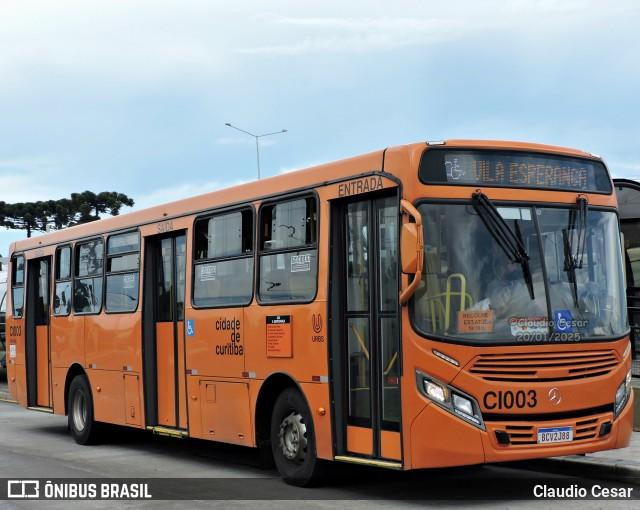VILA ESPERANCA: (468, 156, 591, 194)
